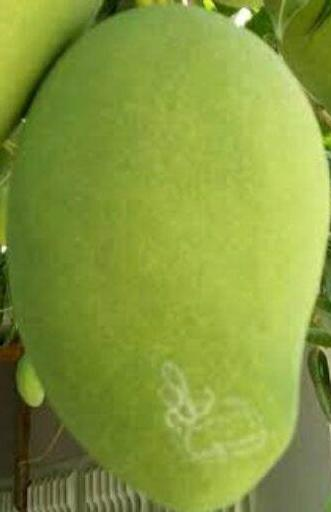Unripe: (0, 1, 331, 512)
